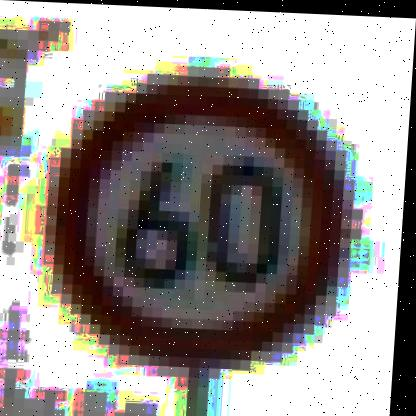Speed Limit -60-: (34, 64, 371, 372)
